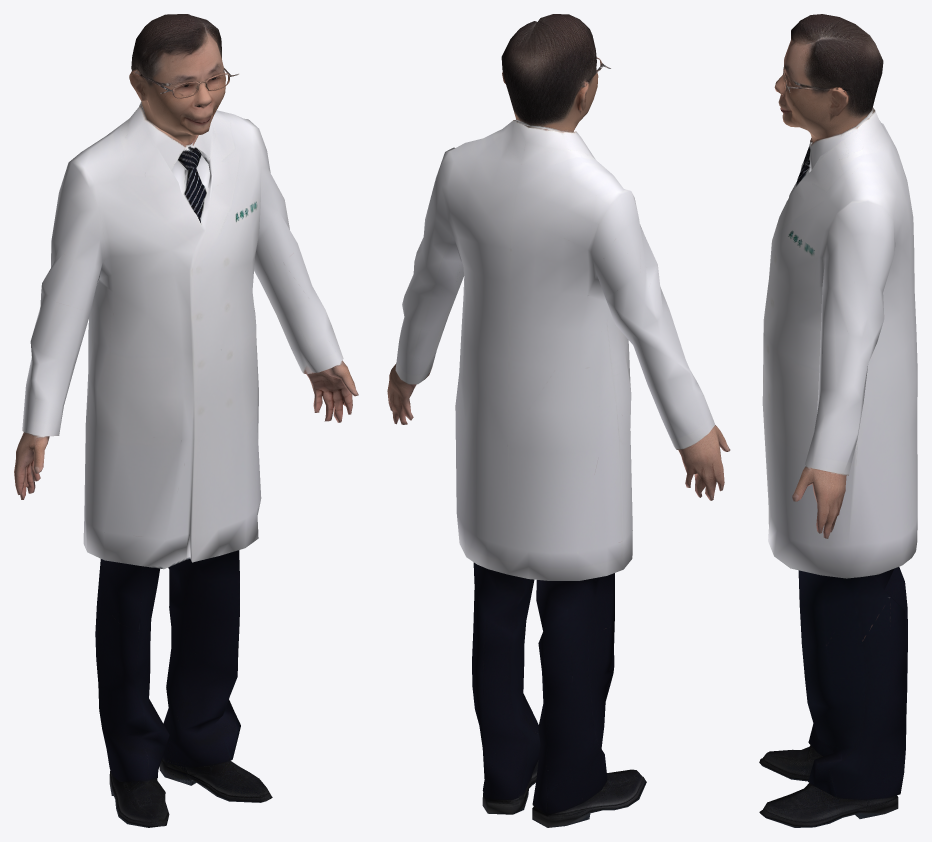
File: 副院長3D模型.glb
3 renders of one model, left to right at view 1: azimuth 30°, elevation 25°; view 2: azimuth 150°, elevation 25°; view 3: azimuth 270°, elevation 25°, orthographic.
Bounding box in the file's own units: 0.4292 × 0.9507 × 0.1763.
1 material, 1 textured.
